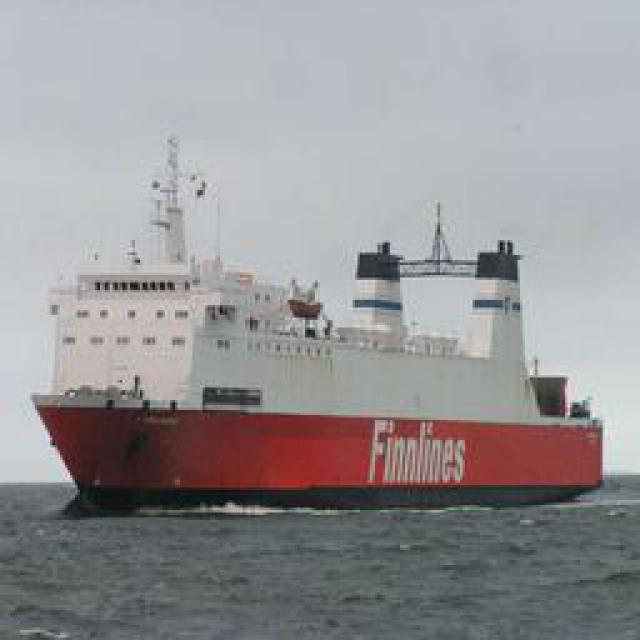Ship: (31, 131, 609, 509)
